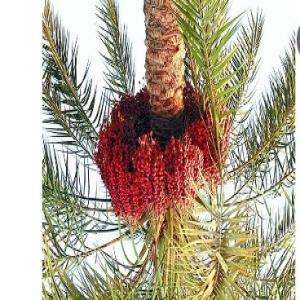palm tree: (41, 0, 296, 299)
